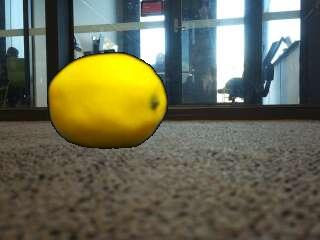lemon: (48, 53, 164, 148)
